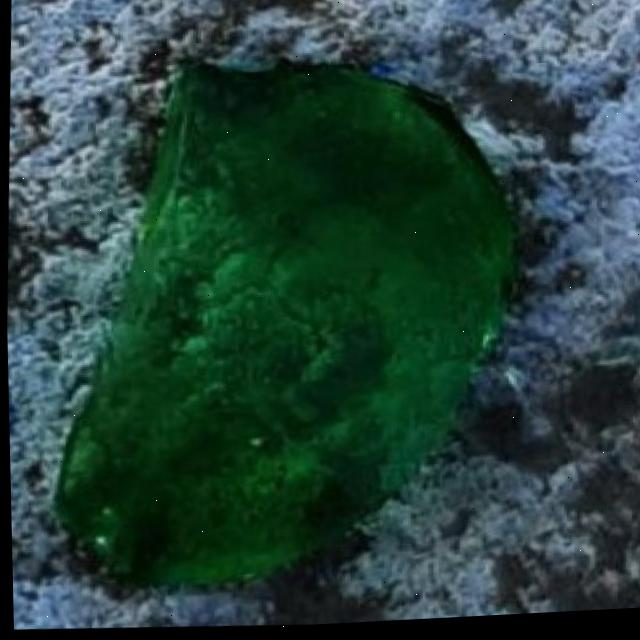Dry: (122, 65, 479, 513), (69, 401, 320, 595), (433, 177, 519, 378)
